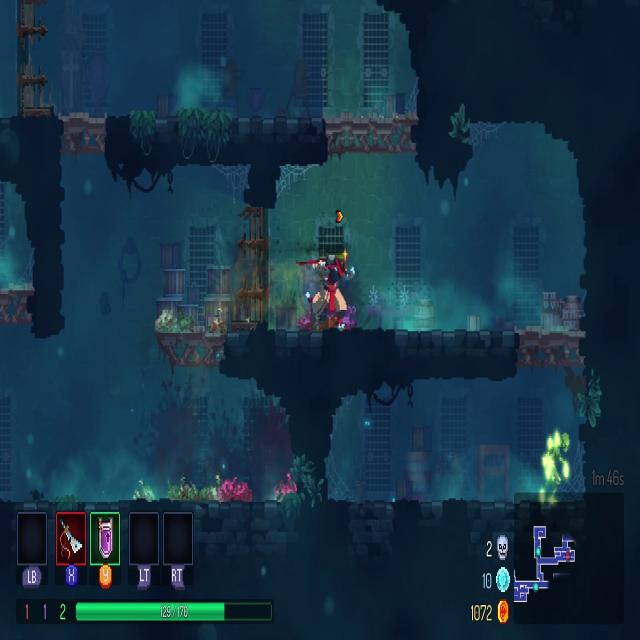agents: (304, 249, 358, 330)
enemy_green_puncher: (541, 430, 571, 500)
